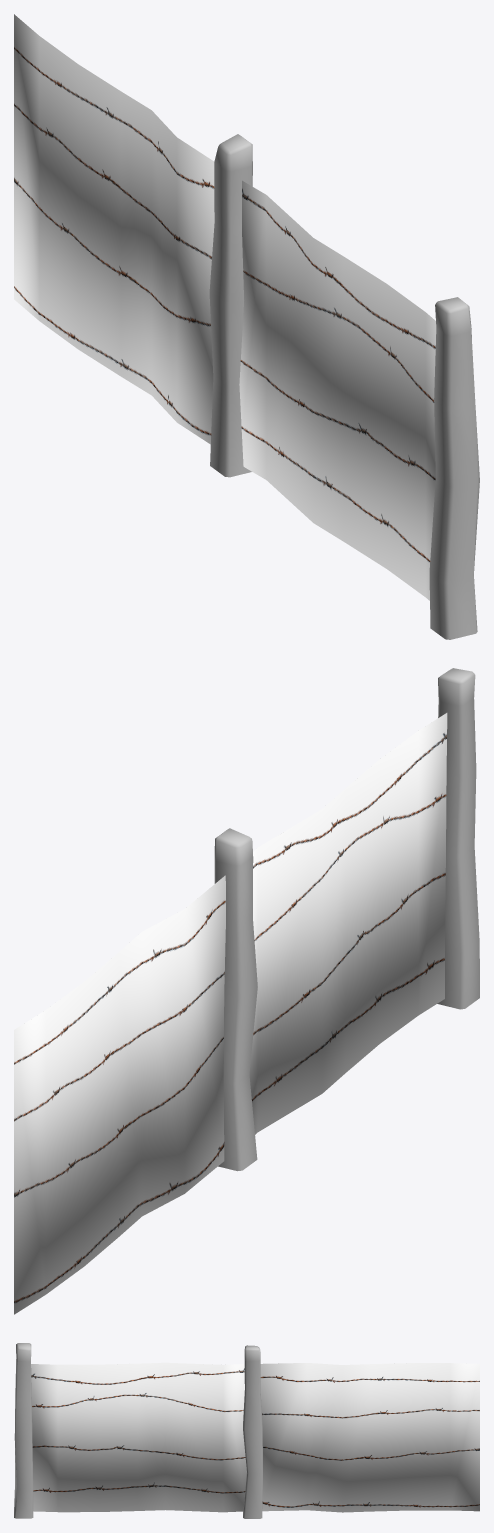
Rendered from Fence.fbx.
3 views of the same model, one above another, from view 1: azimuth 30°, elevation 25°; view 2: azimuth 150°, elevation 25°; view 3: azimuth 270°, elevation 25° (orthographic). The views are drawn at different scales.
Visible parts, largest first — view 1: Fence; view 2: Fence; view 3: Fence.
Part boxes in pixels (x1,y1,x2,y2): Fence: (14, 14, 479, 639); Fence: (14, 668, 479, 1314); Fence: (14, 1343, 479, 1518).
Bounding box in the file's own units: 18.01 × 162 × 404.
